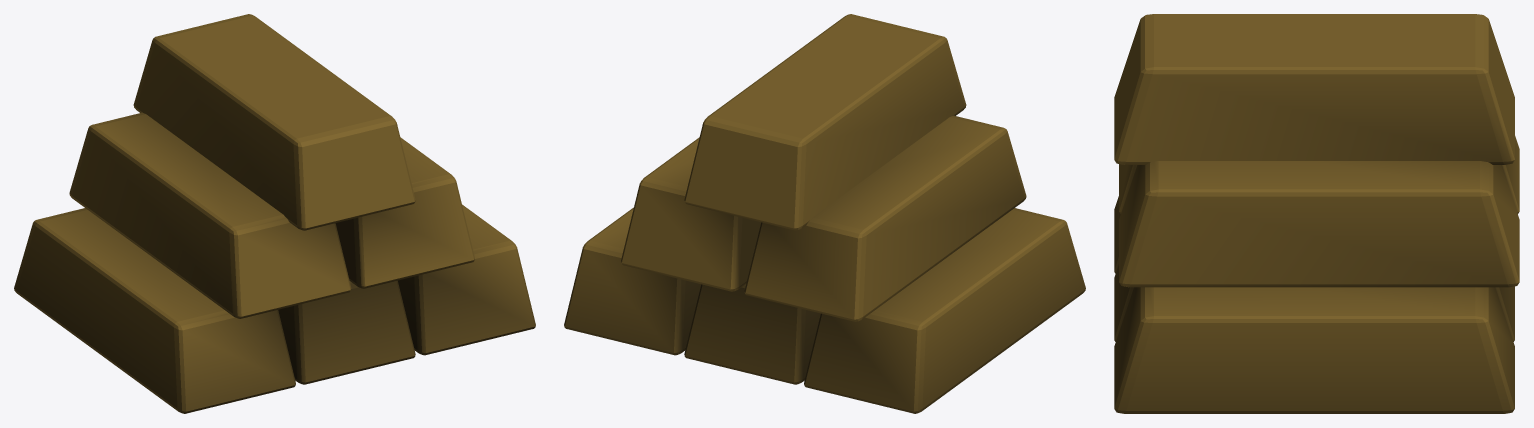
File: pq_lingots.glb
The picture shows the model from 3 angles, left to right: view 1: azimuth 30°, elevation 25°; view 2: azimuth 150°, elevation 25°; view 3: azimuth 270°, elevation 25°; orthographic projection. The views are drawn at different scales.
Parts seen in each view (by area): view 1: Gold_Ingots; view 2: Gold_Ingots; view 3: Gold_Ingots.
Part boxes in pixels (left/top/right/bottom): Gold_Ingots: left=14, top=14, right=535, bottom=413; Gold_Ingots: left=564, top=14, right=1085, bottom=413; Gold_Ingots: left=1114, top=14, right=1519, bottom=413.
Size of the model in its own units: 0.45 by 0.2823 by 0.3795.
